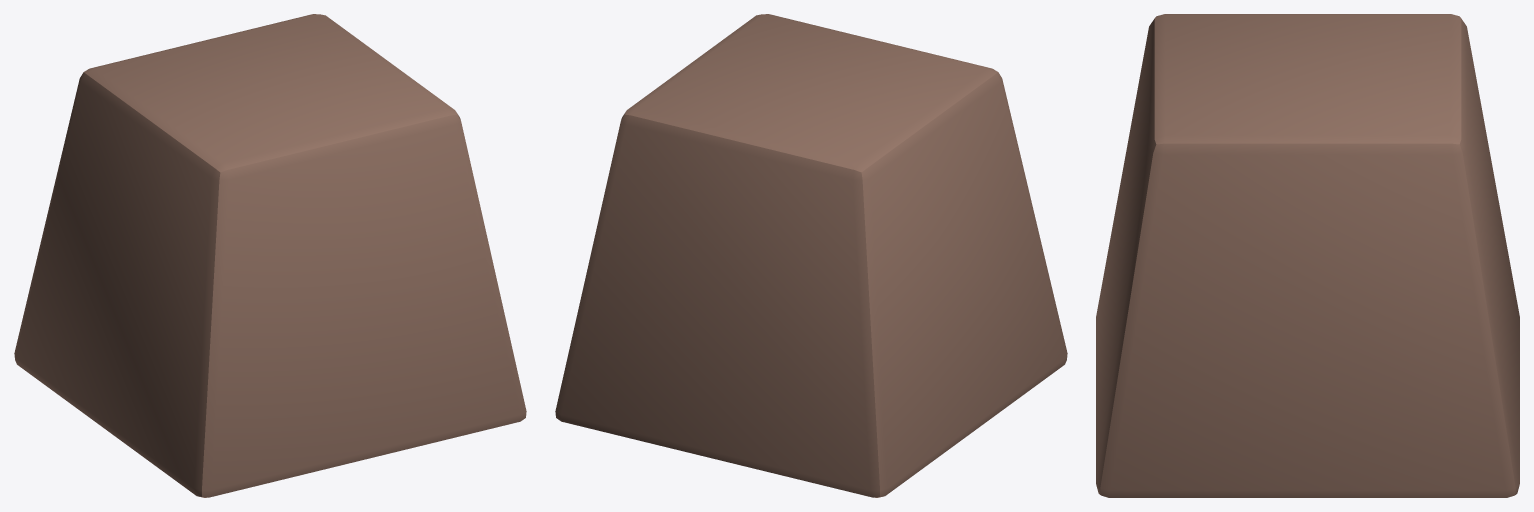
Rendered from Halter_low.fbx.
3 views of the same model, side by side, from view 1: azimuth 30°, elevation 25°; view 2: azimuth 150°, elevation 25°; view 3: azimuth 270°, elevation 25° (orthographic). The views are drawn at different scales.
Parts seen in each view (by area): view 1: Halter_low; view 2: Halter_low; view 3: Halter_low.
Part boxes in pixels (<box>): Halter_low: <box>14,14,526,497</box>; Halter_low: <box>555,14,1067,497</box>; Halter_low: <box>1096,14,1519,497</box>.
Bounding box in the file's own units: 0.1966 × 0.1731 × 0.1966.
